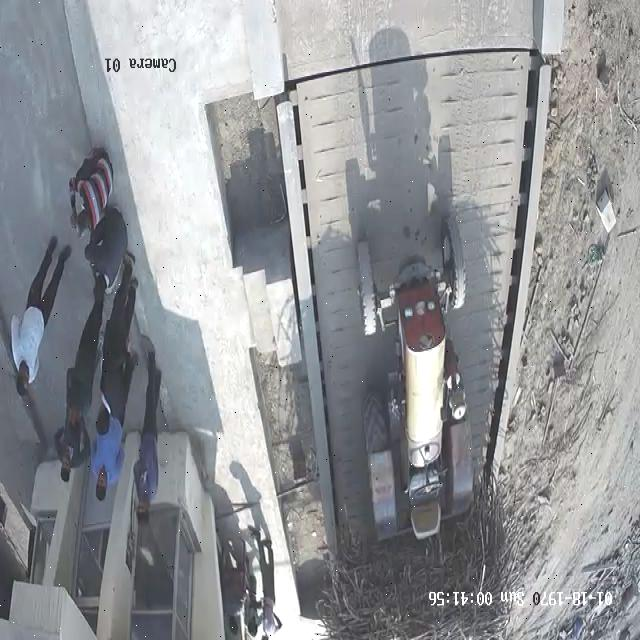Tratores - v5 YOLO V8L 2024-11-13: (355, 218, 475, 534)
